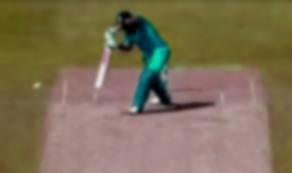batsman: (84, 1, 195, 124)
